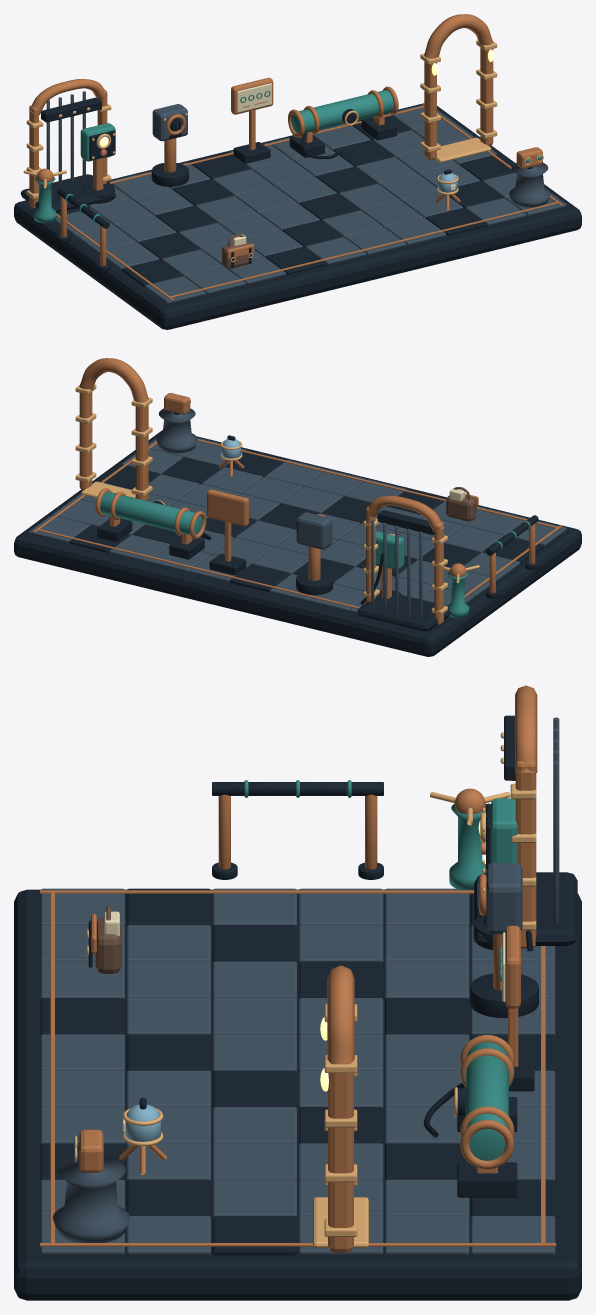
3 renders of one model, top to bottom at view 1: azimuth 30°, elevation 25°; view 2: azimuth 150°, elevation 25°; view 3: azimuth 270°, elevation 25°, orthographic. The views are drawn at different scales.
Visible parts, largest first — view 1: R01_landing_foundation, PR003_tube, PR010_stone, R01_workshop_crown, PR001_base, R01_workshop_jamb.001, R01_floor_edge.003, R01_workshop_jamb, R01_floor_08_05, R01_floor_01_05, R01_floor_05_03, R01_floor_06_04 (+67 smaller); view 2: R01_landing_foundation, PR003_tube, PR001_base, PR010_stone, R01_workshop_crown, PR004_frame, PR006_body, R01_workshop_jamb.001, R01_workshop_jamb, R01_floor_04_00, R01_floor_05_02, R01_floor_07_00 (+62 smaller); view 3: R01_landing_foundation, PR010_stone, R01_workshop_jamb.001, PR003_tube, R01_floor_01_01, R01_floor_01_02, R01_floor_01_03, R01_floor_01_04, R01_floor_04_03, R01_floor_04_04, R01_floor_06_03, R01_floor_02_01 (+75 smaller).
Part boxes in pixels (<box>): R01_landing_foundation: <box>14,104,581,329</box>; PR003_tube: <box>291,90,393,132</box>; PR010_stone: <box>509,162,550,207</box>; R01_workshop_crown: <box>424,14,493,58</box>; PR001_base: <box>20,174,115,212</box>; R01_workshop_jamb.001: <box>480,48,493,146</box>; R01_floor_edge.003: <box>170,202,558,297</box>; R01_workshop_jamb: <box>424,61,436,159</box>; R01_floor_08_05: <box>465,198,526,225</box>; R01_floor_01_05: <box>185,266,245,294</box>; R01_floor_05_03: <box>299,193,359,220</box>; R01_floor_06_04: <box>362,200,423,227</box>; R01_landing_foundation: <box>14,430,581,656</box>; PR003_tube: <box>100,491,202,534</box>; PR001_base: <box>357,595,450,631</box>; PR010_stone: <box>156,408,197,453</box>; R01_workshop_crown: <box>79,358,148,402</box>; PR004_frame: <box>207,489,248,526</box>; PR006_body: <box>296,512,332,549</box>; R01_workshop_jamb.001: <box>79,392,92,489</box>; R01_workshop_jamb: <box>135,405,148,500</box>; R01_floor_04_00: <box>229,564,290,591</box>; R01_floor_05_02: <box>236,520,296,547</box>; R01_floor_07_00: <box>109,534,170,562</box>; R01_landing_foundation: <box>14,889,581,1300</box>; PR010_stone: <box>52,1156,129,1242</box>; R01_workshop_jamb.001: <box>328,1073,353,1252</box>; PR003_tube: <box>465,1042,508,1160</box>; R01_floor_01_01: <box>385,925,469,962</box>; R01_floor_01_02: <box>299,925,383,962</box>; R01_floor_01_03: <box>212,925,296,962</box>; R01_floor_01_04: <box>126,925,210,962</box>; R01_floor_04_03: <box>212,1034,296,1071</box>; R01_floor_04_04: <box>126,1034,210,1071</box>; R01_floor_06_03: <box>212,1107,296,1144</box>; R01_floor_02_01: <box>385,961,469,998</box>.
Size of the model in its own units: 10.75 by 3.84 by 6.6.
